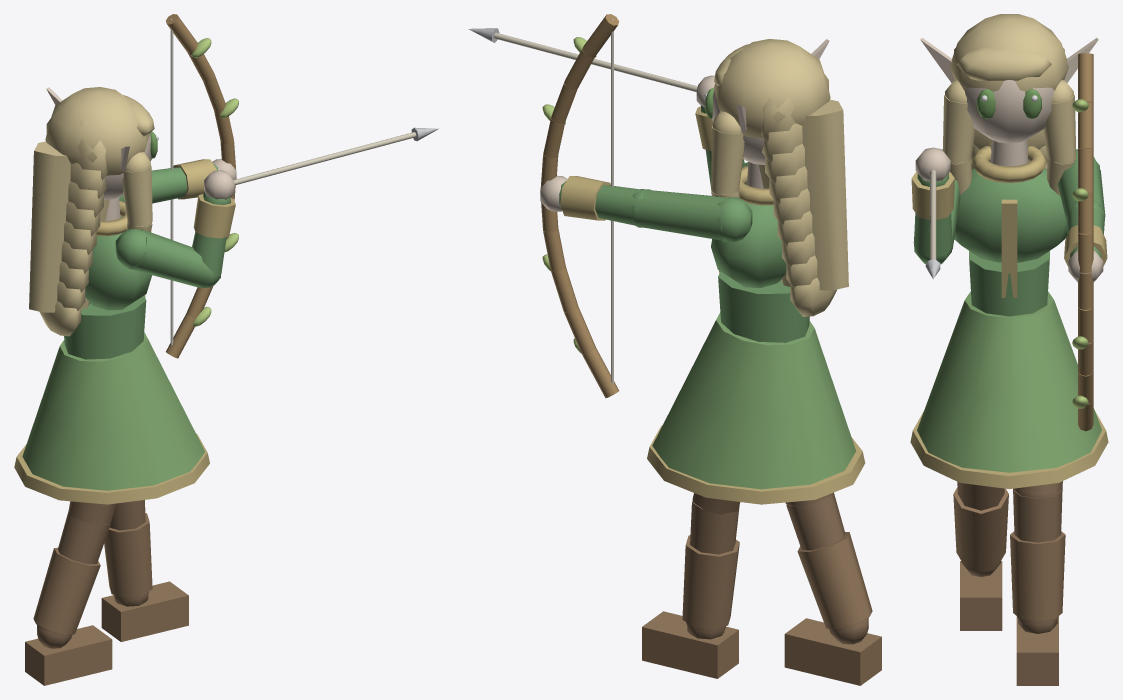
File: ally_1_forest_archer.glb
3 renders of one model, left to right at view 1: azimuth 30°, elevation 25°; view 2: azimuth 150°, elevation 25°; view 3: azimuth 270°, elevation 25°, orthographic. The views are drawn at different scales.
Parts seen in each view (by area): view 1: Hips, Head, LegR, LegL, Torso, ArmR, Offhand, ArmL, Weapon; view 2: Hips, Head, LegR, LegL, Torso, ArmL, Offhand, Weapon, ArmR; view 3: Hips, Head, Torso, LegL, LegR, Offhand, ArmR, ArmL, Weapon.
Boxes of the visible parts, x1,y1,x2,y2 form: Hips: (14,332,209,504); Head: (29,87,158,336); LegR: (25,501,115,685); LegL: (101,500,188,641); Torso: (64,197,151,359); ArmR: (115,170,235,287); Offhand: (166,14,238,358); ArmL: (119,159,236,203); Weapon: (233,127,438,185); Hips: (647,312,865,504); Head: (704,39,848,316); LegR: (784,492,881,685); LegL: (642,493,740,678); Torso: (711,162,809,342); ArmL: (540,175,752,242); Offhand: (540,14,619,398); Weapon: (468,28,697,91); ArmR: (695,75,748,190); Hips: (910,291,1108,488); Head: (920,14,1098,196); Torso: (954,140,1067,316); LegL: (1010,481,1065,685); LegR: (953,482,1008,630); Offhand: (1072,53,1093,431); ArmR: (911,147,960,264); ArmL: (1057,149,1107,282); Weapon: (925,170,940,278).
Bounding box in the file's own units: 1.86 × 2.71 × 0.756.
